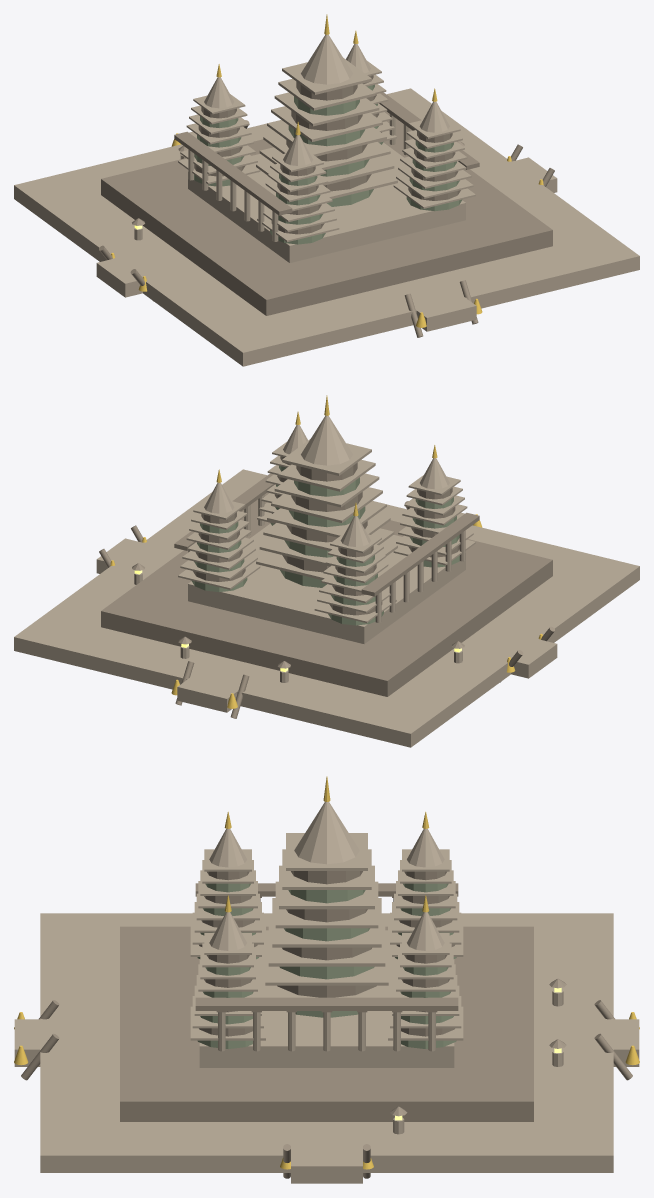
File: angkor-world.glb
3 views of the same model, one above another, from view 1: azimuth 30°, elevation 25°; view 2: azimuth 150°, elevation 25°; view 3: azimuth 270°, elevation 25° (orthographic). The views are drawn at different scales.
Visible parts, largest first — view 1: Cube, Cube.001, Cube.002, Cube.057, Cone, Cube.060, Cube.062, Cube.007, Cube.006, Cube.061, Cube.008, Cube.010 (+16 smaller); view 2: Cube, Cube.001, Cube.002, Cube.057, Cube.059, Cone, Cube.062, Cube.007, Cube.006, Cube.008, Cube.010, Cube.005 (+16 smaller); view 3: Cube, Cube.001, Cube.002, Cube.058, Cube.061, Cone, Cube.004, Cube.005, Cube.059, Cube.060, Cube.006, Cube.007 (+18 smaller).
Part boxes in pixels (bbox=[...]): Cube: bbox=[14, 88, 639, 366]; Cube.001: bbox=[101, 111, 552, 315]; Cube.002: bbox=[188, 142, 465, 262]; Cube.057: bbox=[174, 131, 292, 215]; Cone: bbox=[301, 34, 352, 84]; Cube.060: bbox=[413, 294, 476, 331]; Cube.062: bbox=[96, 257, 159, 297]; Cube.007: bbox=[271, 106, 382, 141]; Cube.006: bbox=[267, 120, 386, 156]; Cube.061: bbox=[494, 157, 557, 192]; Cube.008: bbox=[274, 92, 379, 126]; Cube.010: bbox=[282, 58, 371, 94]; Cube: bbox=[14, 469, 639, 747]; Cube.001: bbox=[101, 492, 552, 696]; Cube.002: bbox=[188, 523, 465, 643]; Cube.057: bbox=[361, 512, 479, 596]; Cube.059: bbox=[177, 673, 240, 712]; Cone: bbox=[301, 415, 352, 465]; Cube.062: bbox=[494, 637, 557, 678]; Cube.007: bbox=[271, 487, 382, 522]; Cube.006: bbox=[267, 501, 386, 537]; Cube.008: bbox=[274, 473, 379, 507]; Cube.010: bbox=[282, 439, 371, 475]; Cube.005: bbox=[263, 514, 390, 550]; Cube: bbox=[40, 913, 613, 1172]; Cube.001: bbox=[120, 926, 533, 1121]; Cube.002: bbox=[199, 957, 454, 1067]; Cube.058: bbox=[195, 997, 458, 1010]; Cube.061: bbox=[291, 1145, 362, 1183]; Cone: bbox=[294, 802, 359, 864]; Cube.004: bbox=[265, 930, 388, 985]; Cube.005: bbox=[268, 914, 385, 966]; Cube.059: bbox=[588, 1019, 639, 1066]; Cube.060: bbox=[14, 1019, 65, 1066]; Cube.006: bbox=[272, 898, 381, 947]; Cube.007: bbox=[275, 881, 378, 928].
Size of the model in its own units: 39.2 by 19.86 by 39.3.
